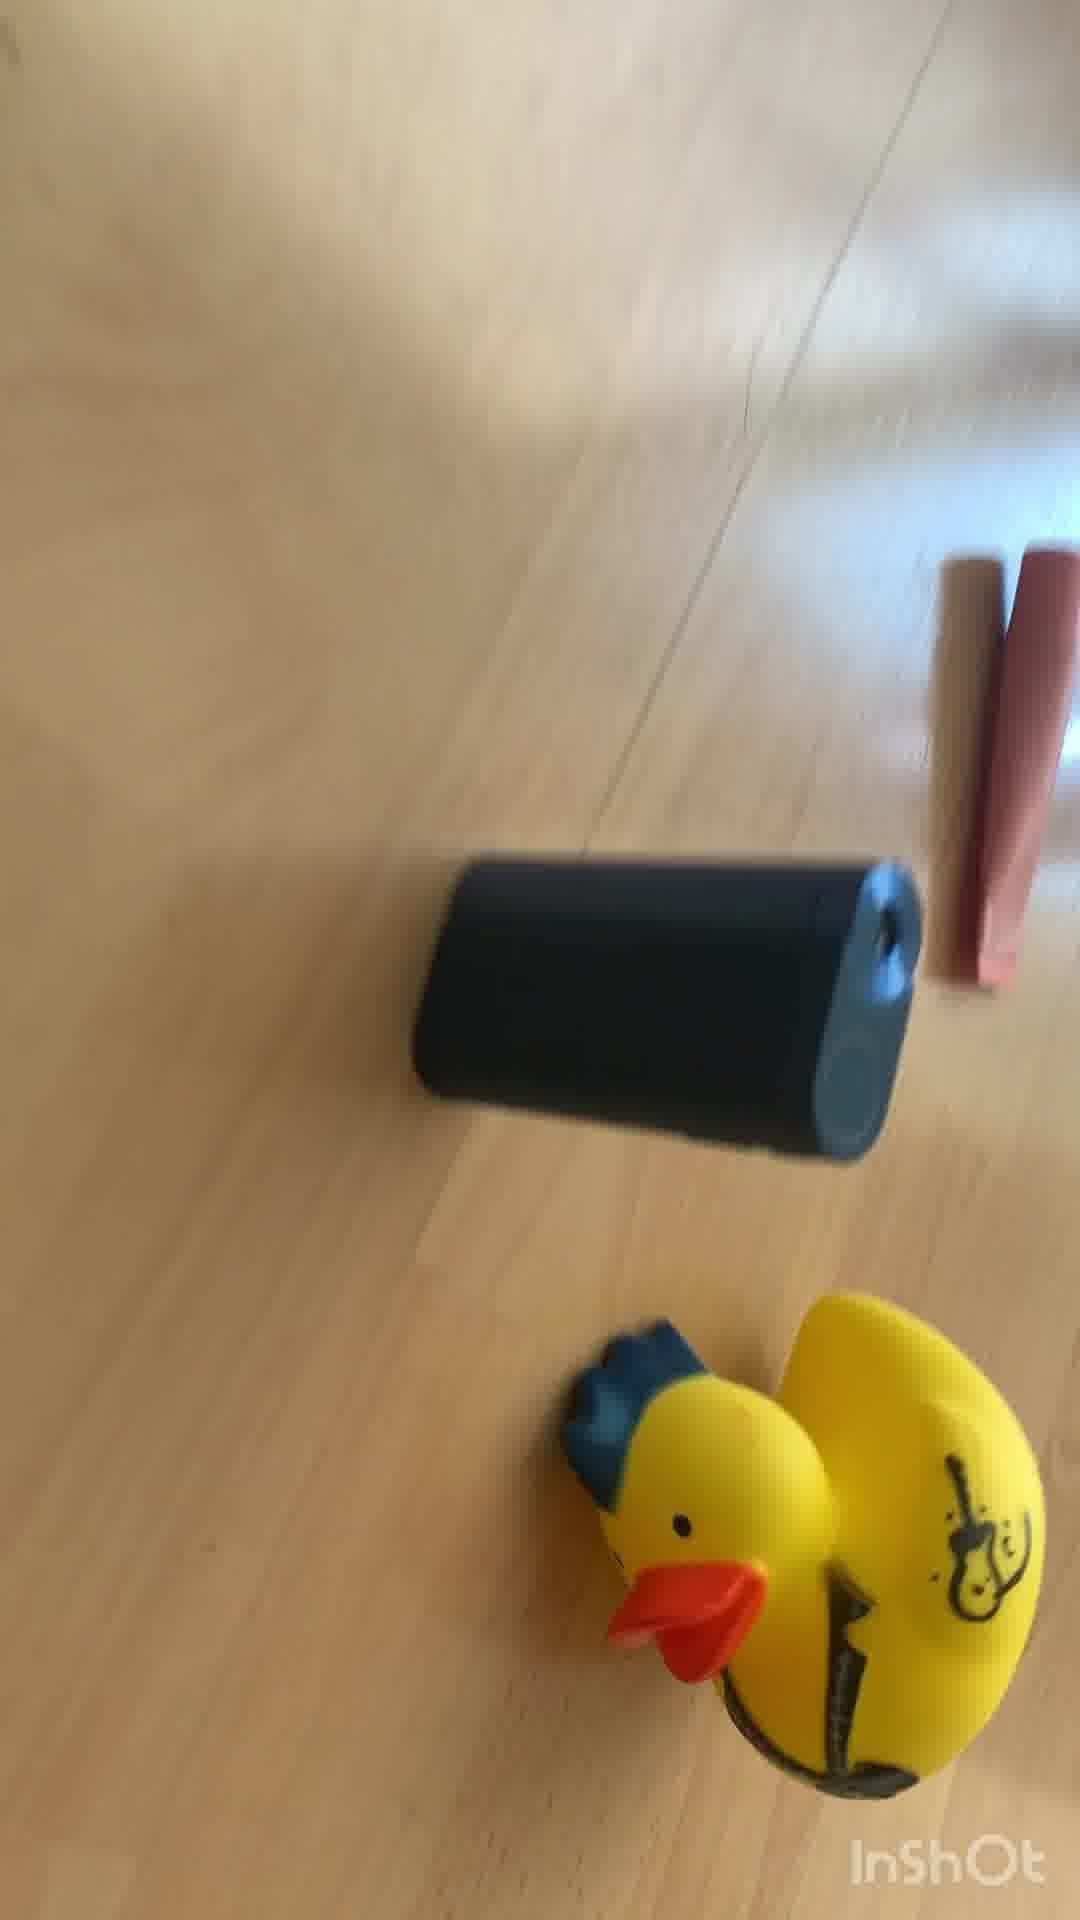duck: (546, 1284, 1048, 1805)
glo: (400, 844, 931, 1172)
lip balm: (967, 534, 1080, 990)
